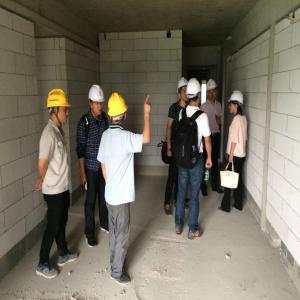white: (88, 82, 106, 116), (187, 78, 203, 106), (228, 90, 245, 116), (206, 78, 218, 102), (177, 77, 188, 103)
yellow: (47, 89, 70, 125), (108, 92, 130, 127)
